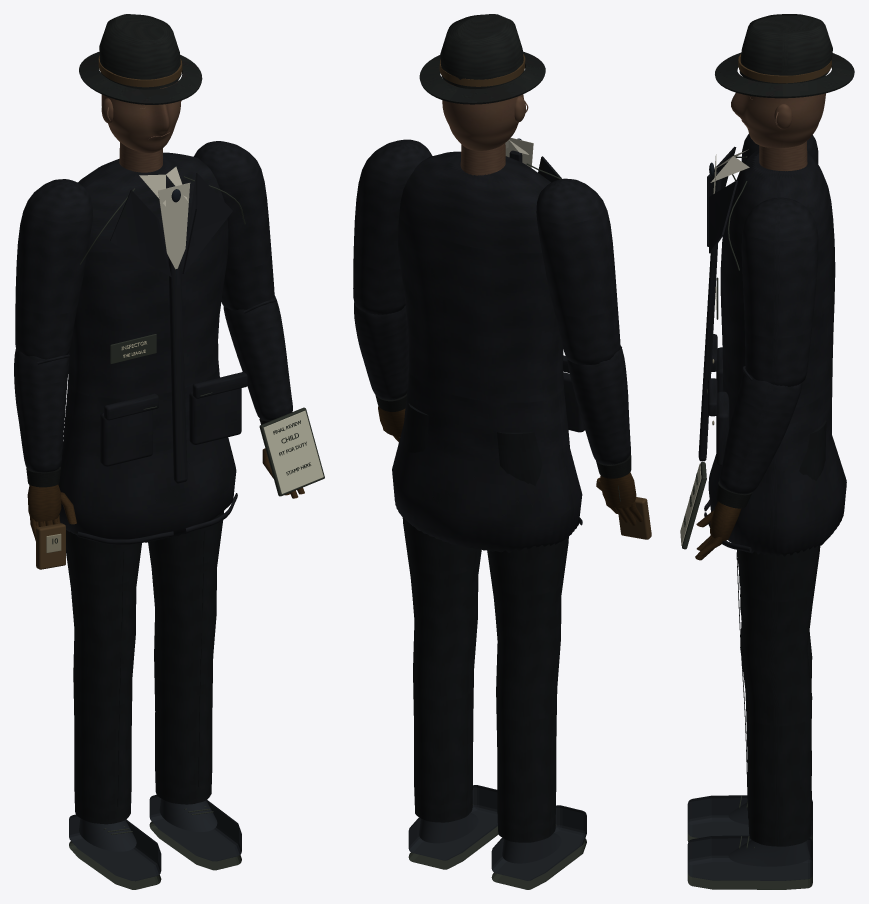
File: league-inspector.glb
3 views of the same model, side by side, from view 1: azimuth 30°, elevation 25°; view 2: azimuth 150°, elevation 25°; view 3: azimuth 270°, elevation 25° (orthographic). The views are drawn at different scales.
Visible parts, largest first — view 1: Idle breathing chest / Rain stained inspection coat, league-inspector / Pressed inspection trousers, Left shoulder idle / Rain stained inspection coat, league-inspector / Polished black shoe leather, Right shoulder idle / Rain stained inspection coat, Head watchful idle / Inspector felt hat, Left forearm idle / Rain stained inspection coat, Right forearm idle / Rain stained inspection coat, Head watchful idle / Weathered skin, Right forearm idle / Inspection label paper, Idle breathing chest / Aged cream shirt, league-inspector / Dark seams (+6 smaller); view 2: Idle breathing chest / Rain stained inspection coat, league-inspector / Pressed inspection trousers, Left shoulder idle / Rain stained inspection coat, Right shoulder idle / Rain stained inspection coat, Head watchful idle / Inspector felt hat, league-inspector / Polished black shoe leather, Left forearm idle / Rain stained inspection coat, Right forearm idle / Rain stained inspection coat, Head watchful idle / Weathered skin, league-inspector / Dark seams, Left forearm idle / Work glove leather, Idle breathing chest / Weathered skin (+3 smaller); view 3: Idle breathing chest / Rain stained inspection coat, league-inspector / Pressed inspection trousers, Right shoulder idle / Rain stained inspection coat, Head watchful idle / Inspector felt hat, league-inspector / Polished black shoe leather, Right forearm idle / Rain stained inspection coat, Head watchful idle / Weathered skin, league-inspector / Dark seams, Right forearm idle / Work glove leather, Idle breathing chest / Weathered skin, Head watchful idle / Brown field leather, Right forearm idle / Dark seams (+4 smaller).
Boxes of the visible parts, x1,y1,x2,y2 form: Idle breathing chest / Rain stained inspection coat: (58,152,247,544); league-inspector / Pressed inspection trousers: (66,511,223,824); Left shoulder idle / Rain stained inspection coat: (15,179,92,359); league-inspector / Polished black shoe leather: (69,795,241,881); Right shoulder idle / Rain stained inspection coat: (193,141,274,310); Head watchful idle / Inspector felt hat: (79,14,202,104); Left forearm idle / Rain stained inspection coat: (14,349,69,472); Right forearm idle / Rain stained inspection coat: (223,295,292,420); Head watchful idle / Weathered skin: (101,80,180,153); Right forearm idle / Inspection label paper: (263,410,323,493); Idle breathing chest / Aged cream shirt: (139,166,190,269); league-inspector / Dark seams: (69,806,241,889); Idle breathing chest / Rain stained inspection coat: (392,150,584,552); league-inspector / Pressed inspection trousers: (402,403,568,842); Left shoulder idle / Rain stained inspection coat: (536,178,620,364); Right shoulder idle / Rain stained inspection coat: (353,139,432,314); Head watchful idle / Inspector felt hat: (419,14,545,104); league-inspector / Polished black shoe leather: (408,785,586,880); Left forearm idle / Rain stained inspection coat: (567,345,630,464); Right forearm idle / Rain stained inspection coat: (354,302,408,399); Head watchful idle / Weathered skin: (442,81,525,150); league-inspector / Dark seams: (408,804,586,889); Left forearm idle / Work glove leather: (596,472,642,525); Idle breathing chest / Weathered skin: (460,143,505,175); Idle breathing chest / Rain stained inspection coat: (698,146,846,556); league-inspector / Pressed inspection trousers: (736,420,826,846); Right shoulder idle / Rain stained inspection coat: (741,197,818,386); Head watchful idle / Inspector felt hat: (715,14,854,98); league-inspector / Polished black shoe leather: (687,795,812,880); Right forearm idle / Rain stained inspection coat: (719,366,802,493); Head watchful idle / Weathered skin: (731,92,825,147); league-inspector / Dark seams: (687,795,812,889); Right forearm idle / Work glove leather: (695,501,741,560); Idle breathing chest / Weathered skin: (759,141,807,171); Head watchful idle / Brown field leather: (738,54,831,83); Right forearm idle / Dark seams: (682,461,706,549).
Bounding box in the file's own units: 0.6311 × 1.84 × 0.3479.
Materials: 19 (6 with a texture image).
